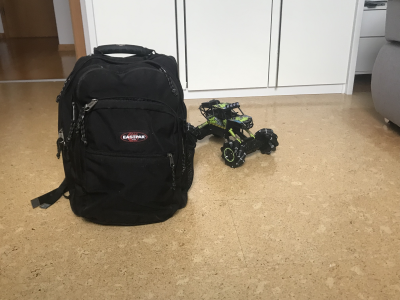remote control car: (185, 90, 280, 170)
